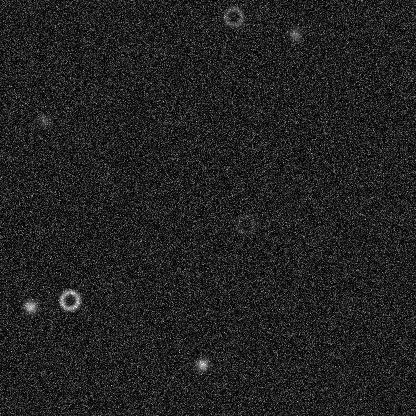Ring: (57, 288, 81, 312), (221, 4, 245, 28), (233, 212, 257, 236)
Spot: (287, 26, 303, 42), (22, 298, 38, 314), (194, 356, 210, 372), (37, 112, 53, 128)
